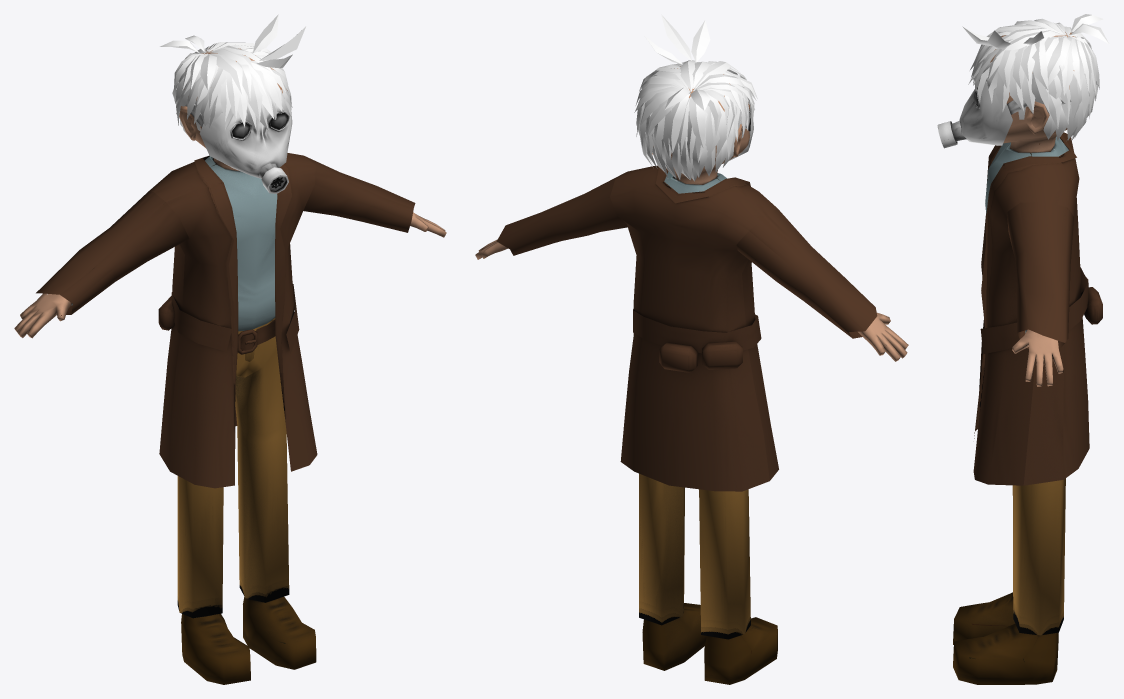
File: Investigator.fbx
3 views of the same model, side by side, from view 1: azimuth 30°, elevation 25°; view 2: azimuth 150°, elevation 25°; view 3: azimuth 270°, elevation 25° (orthographic). The views are drawn at different scales.
Visible parts, largest first — view 1: Circle, Circle.001, Plane.002, Circle.006; view 2: Circle, Circle.001, Plane.002; view 3: Circle, Circle.001, Plane.002, Circle.006.
Boxes of the visible parts, <box> form: Circle: <box>36,153,415,488</box>; Circle.001: <box>14,48,446,684</box>; Plane.002: <box>160,14,305,140</box>; Circle.006: <box>185,90,292,193</box>; Circle: <box>496,165,877,491</box>; Circle.001: <box>475,66,908,684</box>; Plane.002: <box>634,14,757,181</box>; Circle: <box>973,132,1102,485</box>; Circle.001: <box>953,32,1075,684</box>; Plane.002: <box>962,14,1108,141</box>; Circle.006: <box>937,76,1071,148</box>.
Size of the model in its own units: 352 by 494 by 117.
